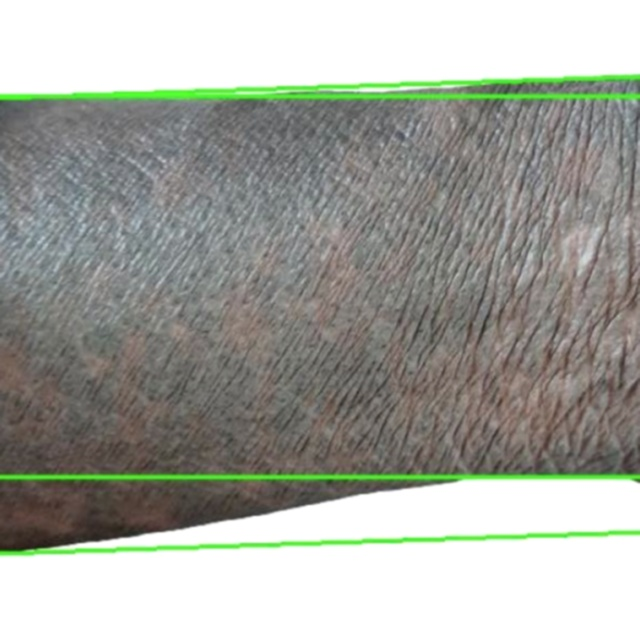Eczema: (0, 76, 639, 552), (0, 477, 639, 639), (0, 0, 639, 96)
